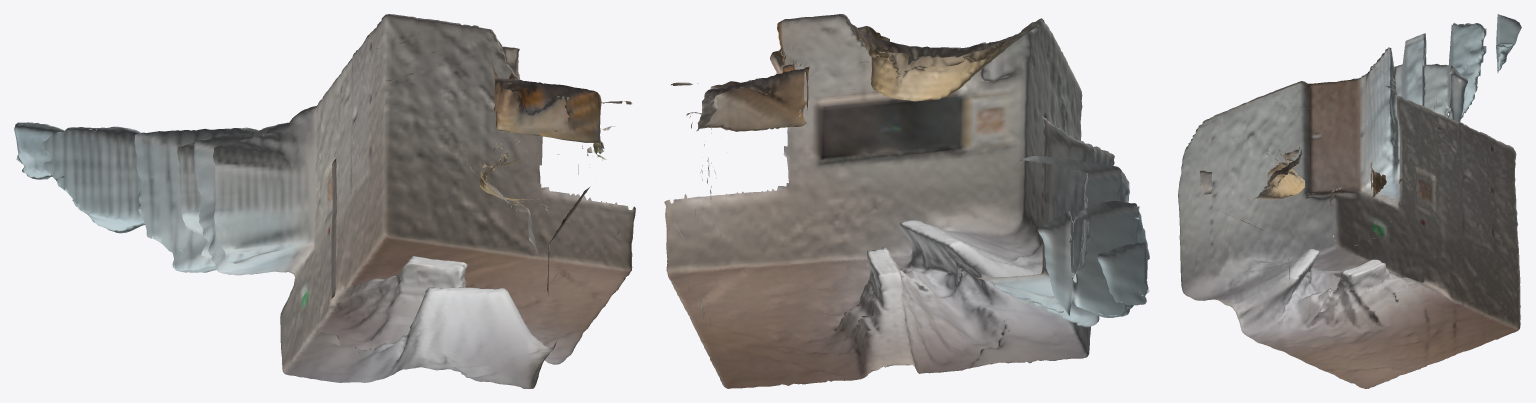
File: world3glb.glb
The picture shows the model from 3 angles, left to right: view 1: azimuth 30°, elevation 25°; view 2: azimuth 150°, elevation 25°; view 3: azimuth 270°, elevation 25°; orthographic projection. The views are drawn at different scales.
Visible parts, largest first — view 1: world; view 2: world; view 3: world.
Part boxes in pixels (x1,y1,x2,y2): world: (14,14,635,388); world: (664,14,1149,388); world: (1178,14,1521,388).
Size of the model in its own units: 6.23 by 2.67 by 4.37.
